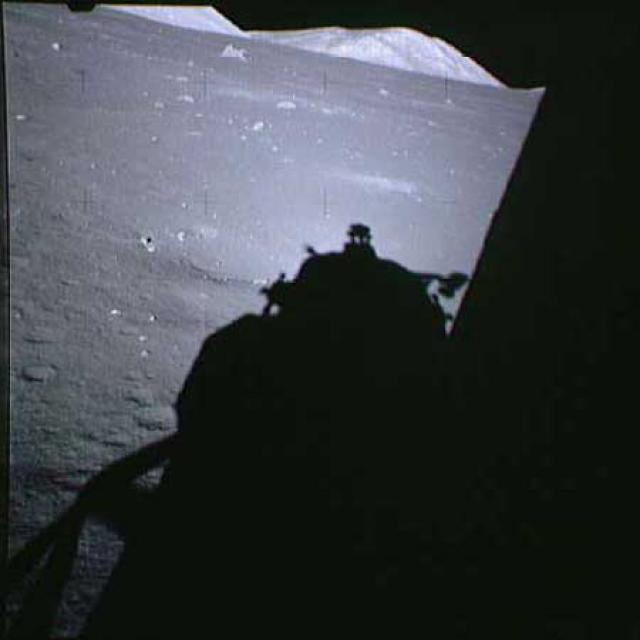crater: (175, 234, 297, 289)
rock: (210, 36, 255, 70), (271, 96, 297, 114)
